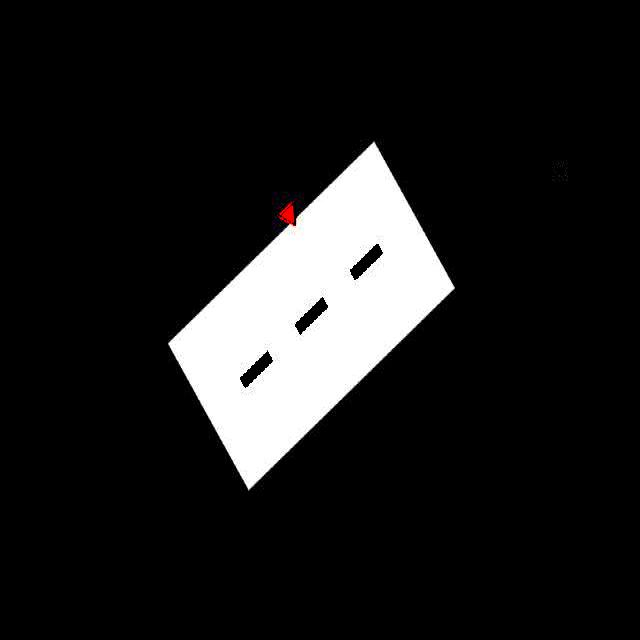red_triangle: (279, 200, 297, 228)
